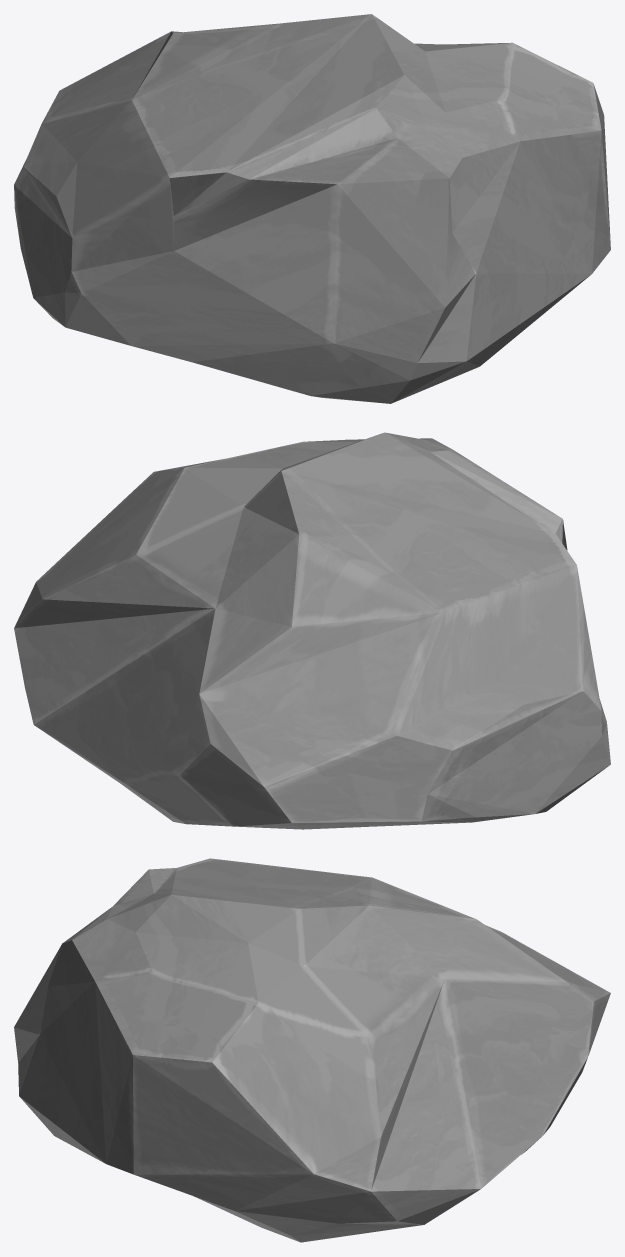
Rendered from Model_Rock4.fbx.
3 views of the same model, one above another, from view 1: azimuth 30°, elevation 25°; view 2: azimuth 150°, elevation 25°; view 3: azimuth 270°, elevation 25° (orthographic). The views are drawn at different scales.
Visible parts, largest first — view 1: Icosphere.003; view 2: Icosphere.003; view 3: Icosphere.003.
Part boxes in pixels (box(x1,y1,x2,y2)): Icosphere.003: box(14, 14, 610, 403); Icosphere.003: box(14, 432, 610, 829); Icosphere.003: box(14, 858, 610, 1242).
Bounding box in the file's own units: 259 × 135 × 254.
